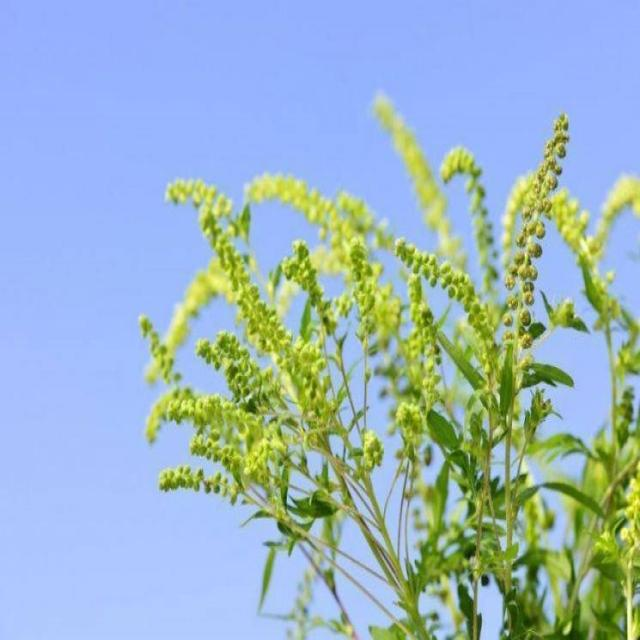ambrosia: (369, 59, 640, 621), (120, 132, 354, 566)
